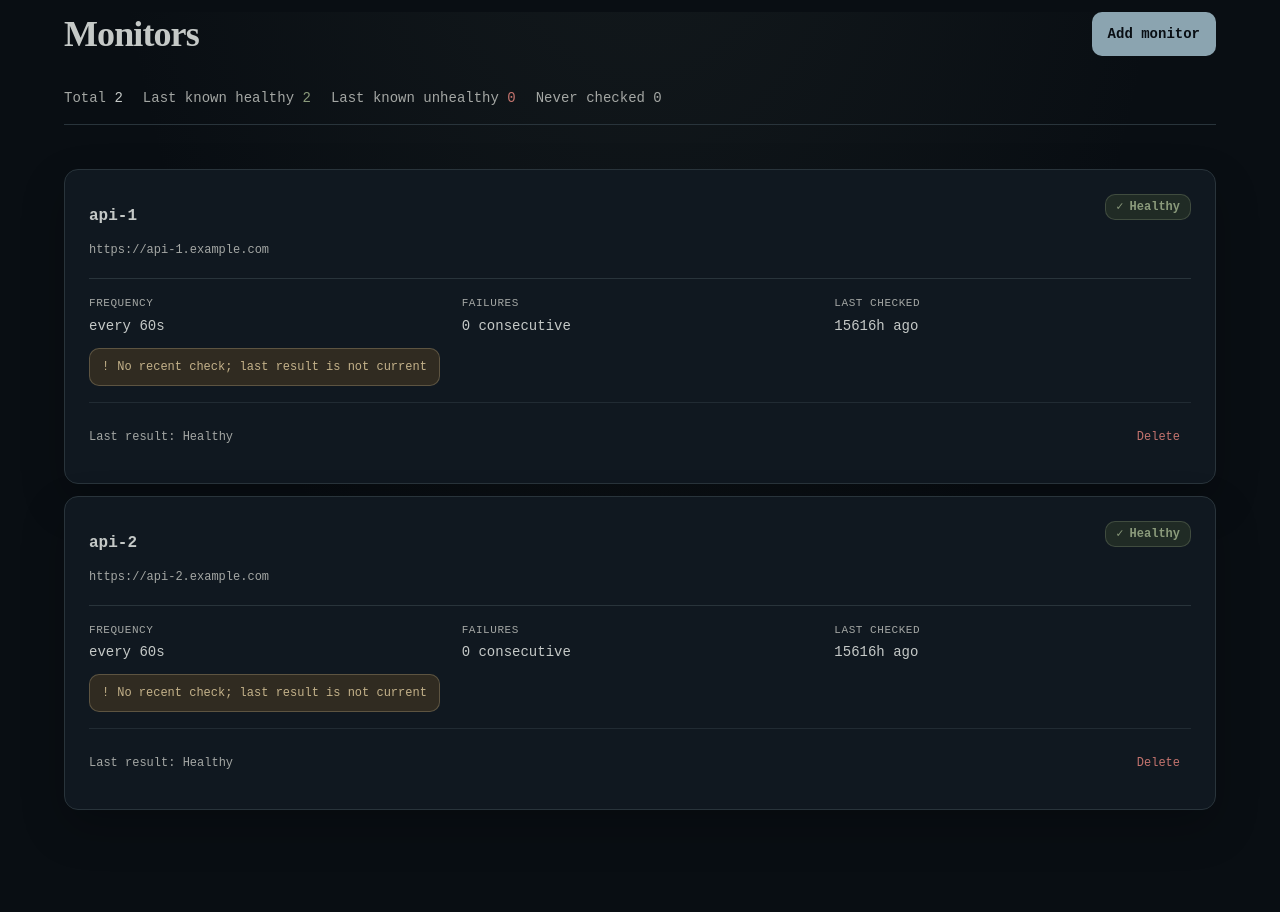
successful monitor deletion focus › does not steal focus moved elsewhere while deletion is pending
This screenshot has width=1280, height=912.
Click the button with aria-label "Delete api-1" at (1158, 436), box [1126,414,1191,458]
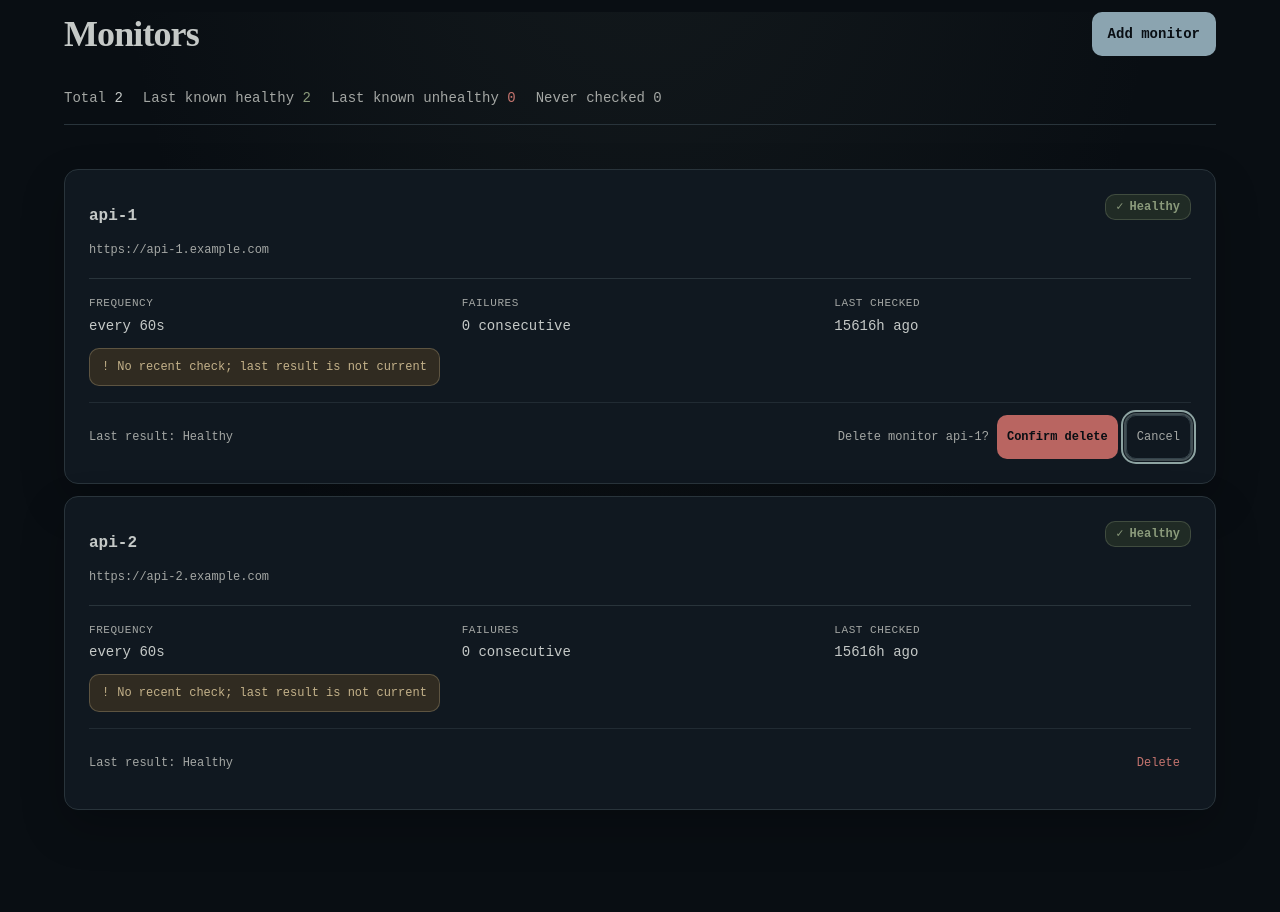
Click the button with aria-label "Confirm delete api-1" at (1057, 436), box [997,414,1118,458]
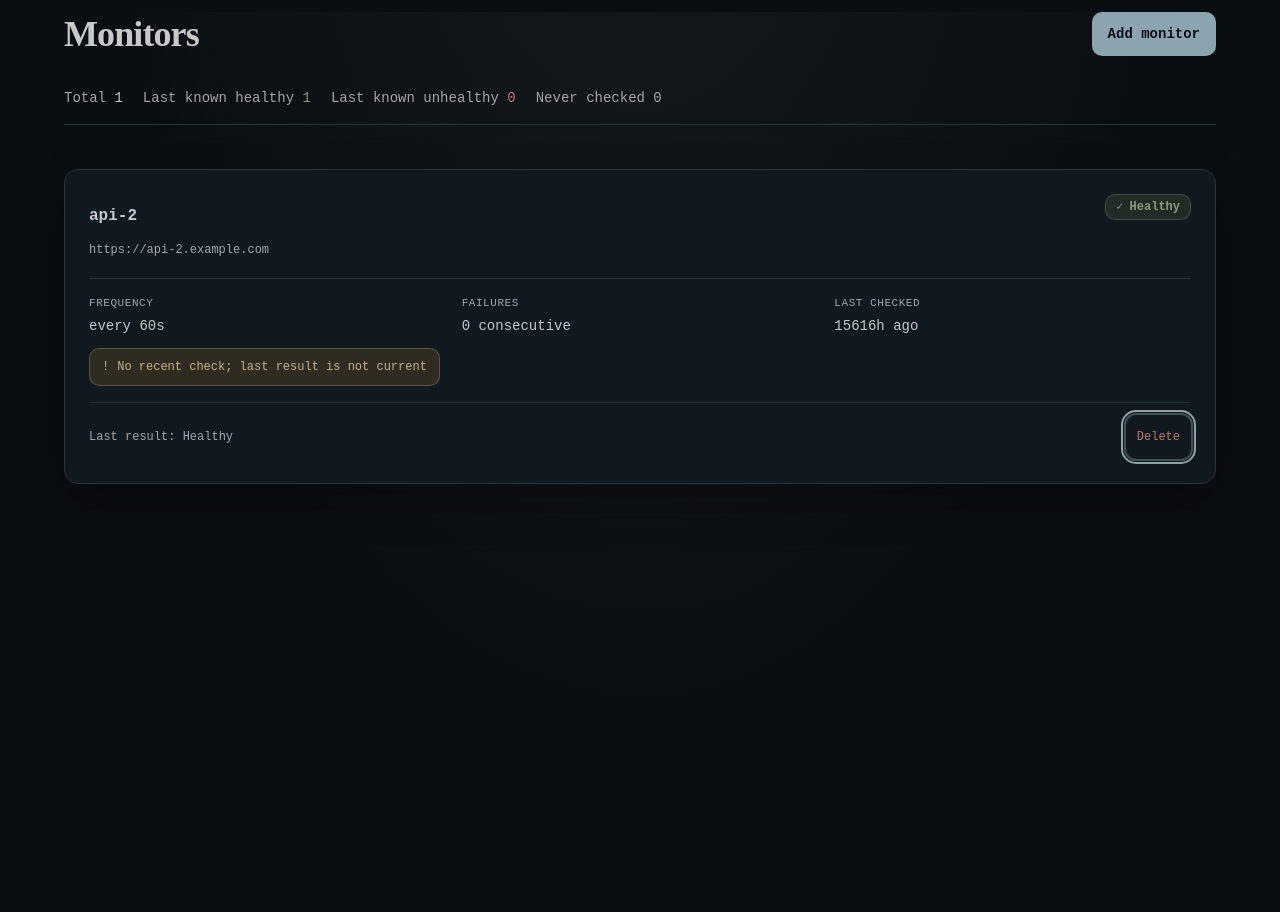
Expected: the link "api-1" is gone
